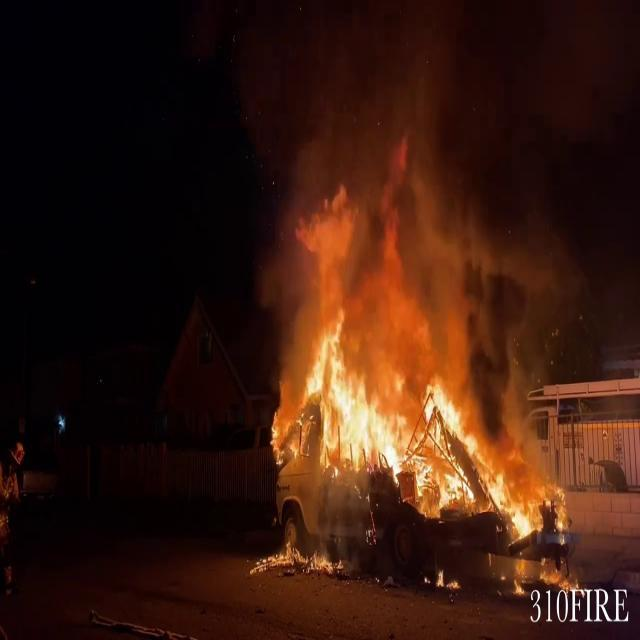Fire: (274, 350, 567, 538)
Smoke: (268, 0, 559, 362)
